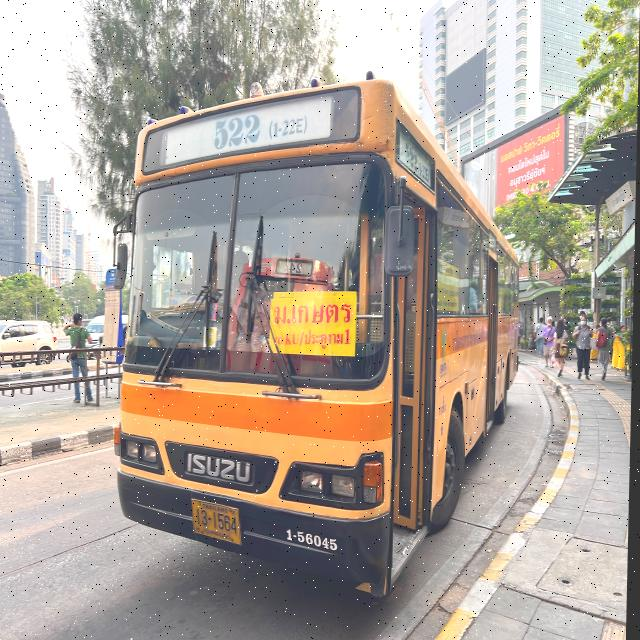BMTA-bus: (114, 79, 526, 602)
Bus-Line-Number: (210, 110, 311, 153)
Destination-Sign-Extra-Bus-Expressway: (270, 296, 357, 356)
